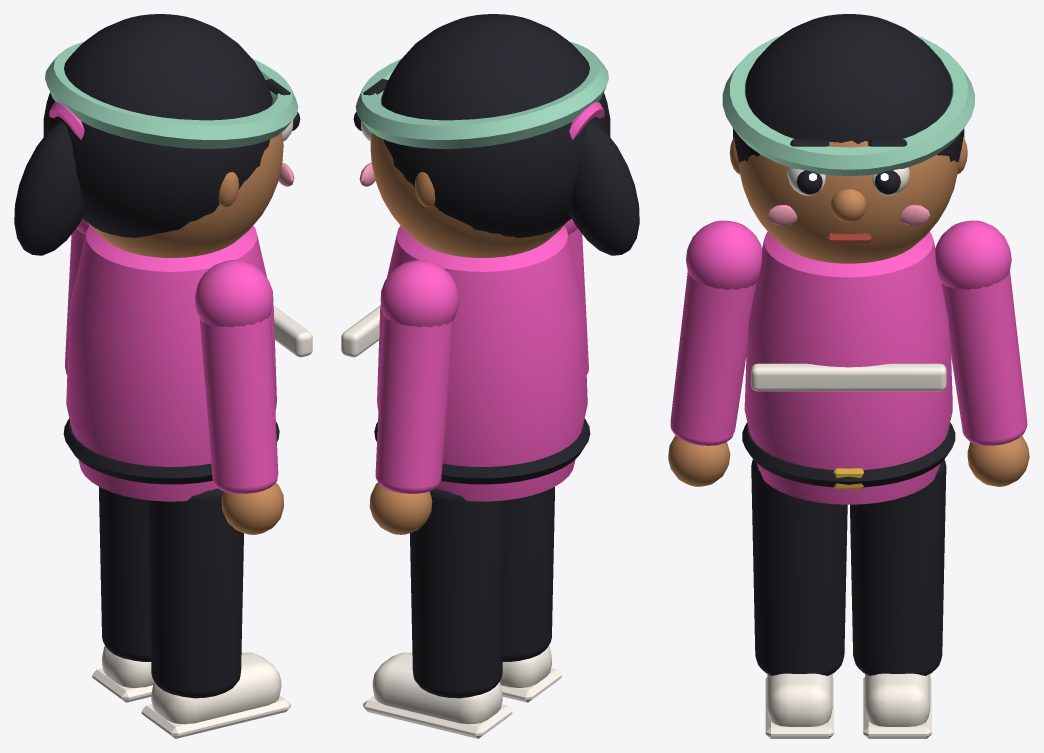
File: ped_jogger.glb
3 views of the same model, side by side, from view 1: azimuth 30°, elevation 25°; view 2: azimuth 150°, elevation 25°; view 3: azimuth 270°, elevation 25° (orthographic).
Parts seen in each view (by area): view 1: ped_jogger; view 2: ped_jogger; view 3: ped_jogger.
Boxes of the visible parts, bbox=[...] form: ped_jogger: bbox=[14, 14, 312, 738]; ped_jogger: bbox=[341, 14, 639, 738]; ped_jogger: bbox=[668, 14, 1029, 738].
Size of the model in its own units: 0.5648 by 1.39 by 0.6761.
1 material, 1 textured.
